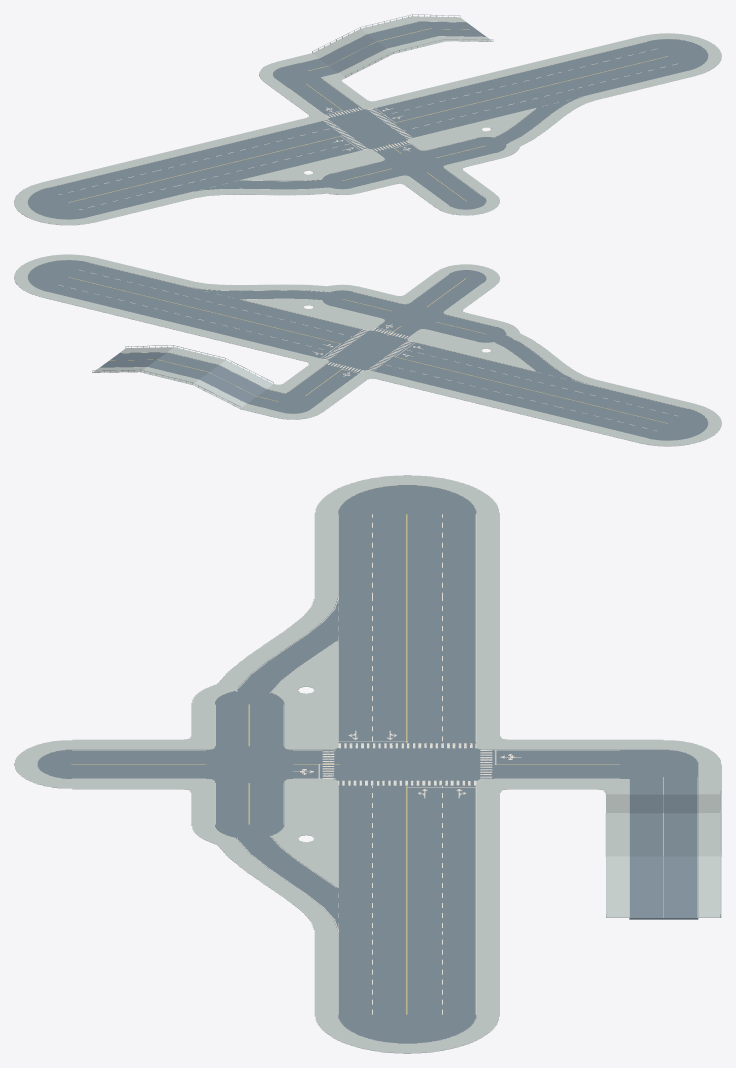
The model's file is network-w88-s59.glb.
3 views of the same model, one above another, from view 1: azimuth 30°, elevation 25°; view 2: azimuth 150°, elevation 25°; view 3: azimuth 270°, elevation 25° (orthographic). The views are drawn at different scales.
Visible parts, largest first — view 1: Road_surface, Sidewalks, Lane_markings, Ramp_surface, Crosswalks, Bridge_railings; view 2: Road_surface, Sidewalks, Lane_markings, Ramp_surface, Crosswalks, Bridge_railings; view 3: Road_surface, Sidewalks, Ramp_surface, Lane_markings, Crosswalks.
Part boxes in pixels (<box>): Road_surface: <box>28,21,707,219</box>; Sidewalks: <box>14,16,721,225</box>; Lane_markings: <box>48,21,677,215</box>; Ramp_surface: <box>319,21,486,72</box>; Crosswalks: <box>322,107,413,151</box>; Bridge_railings: <box>312,14,493,77</box>; Road_surface: <box>28,260,707,440</box>; Sidewalks: <box>14,254,721,446</box>; Lane_markings: <box>58,262,687,431</box>; Ramp_surface: <box>100,352,266,403</box>; Crosswalks: <box>323,328,412,372</box>; Bridge_railings: <box>92,345,273,408</box>; Road_surface: <box>37,485,698,1043</box>; Sidewalks: <box>14,475,721,1053</box>; Ramp_surface: <box>629,794,698,919</box>; Lane_markings: <box>71,514,697,1014</box>; Crosswalks: <box>322,743,492,785</box>.
Size of the model in its own units: 347 by 7.51 by 180.
